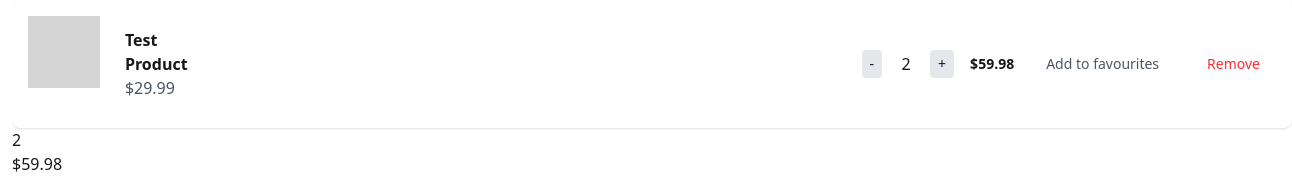
Scenario: CartItem › Button Functionality › increments quantity when plus button is clicked
Expected: the text with test id "item-quantity" reads "2", [902,53,911,75]
Click the button "+". click: (942, 64)
box: [930,50,954,78]
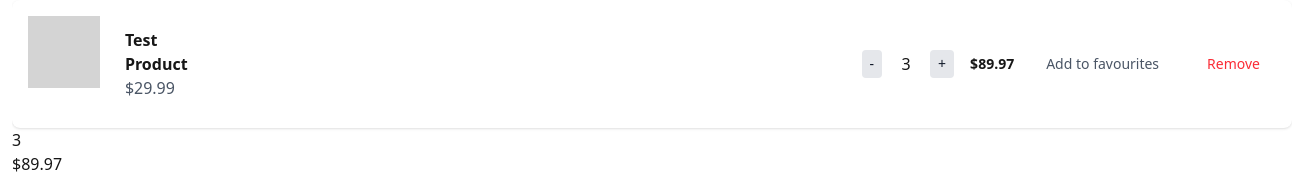
Result: the text with test id "item-quantity" reads "3" at [902,53,911,75]
Result: the text with test id "cart-count" reads "3" at [12,129,21,151]
Result: the text with test id "cart-total" reads "$89.97" at [12,153,62,175]
